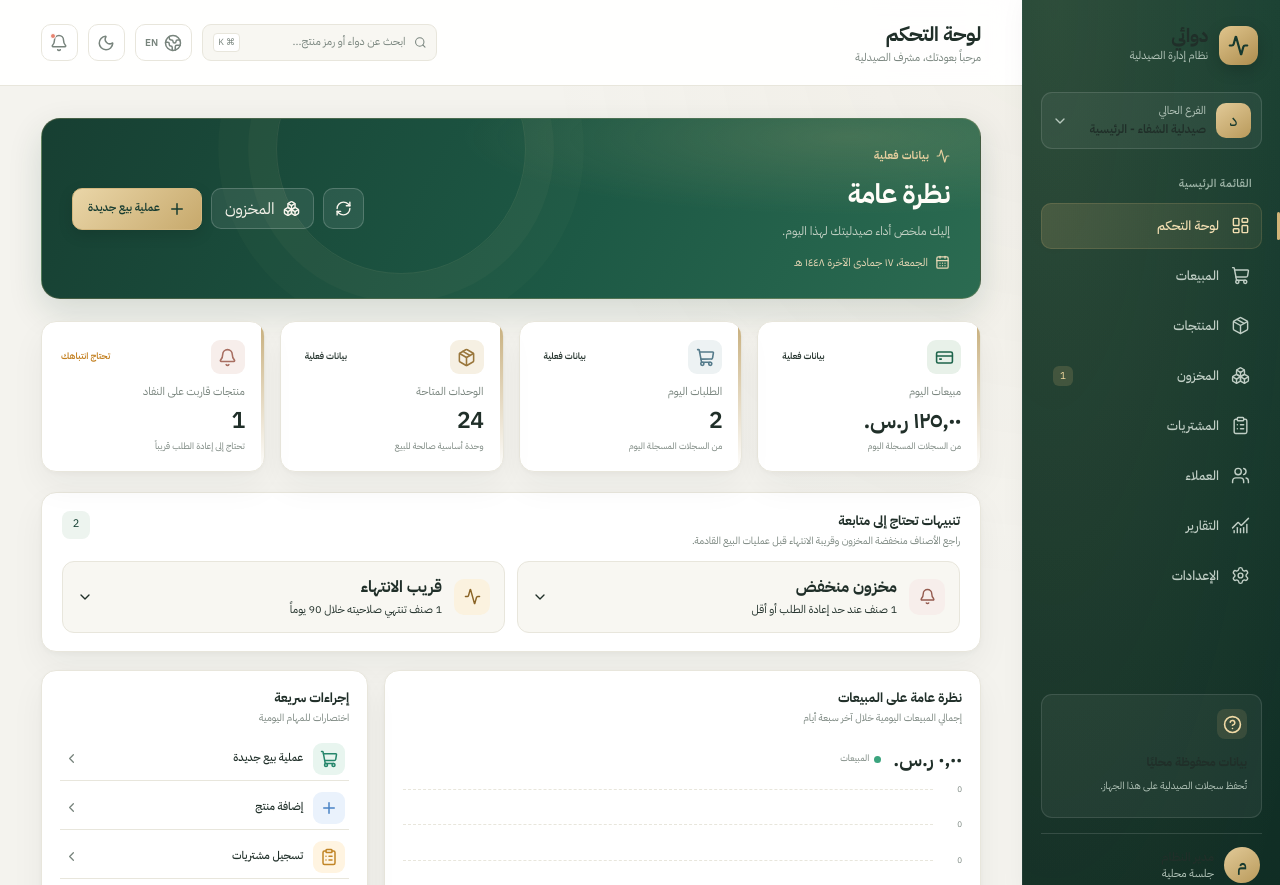
Test: main application shell › shows actionable inventory alerts on the dashboard and opens the matching catalog filter
Expected: the heading "تنبيهات تحتاج إلى متابعة" is shown, left=838, top=511, right=960, bottom=530
Click the button "مخزون منخفض 1 صنف عند حد إعادة الطلب أو أقل".
click(927, 597)  # box left=517, top=561, right=960, bottom=633
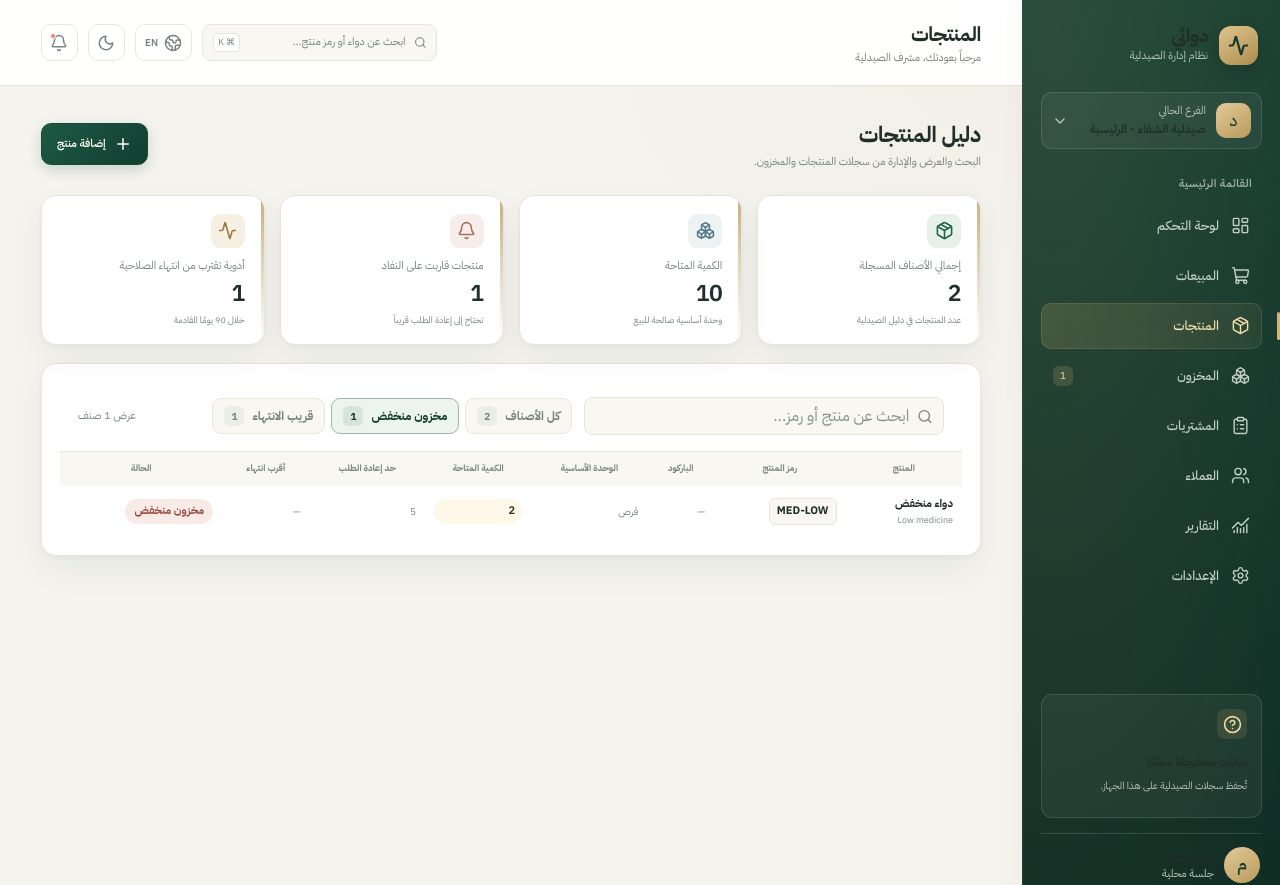
Expected: the text "Low medicine" is shown, left=898, top=513, right=953, bottom=527
